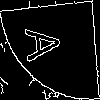A: (25, 25, 70, 64)
